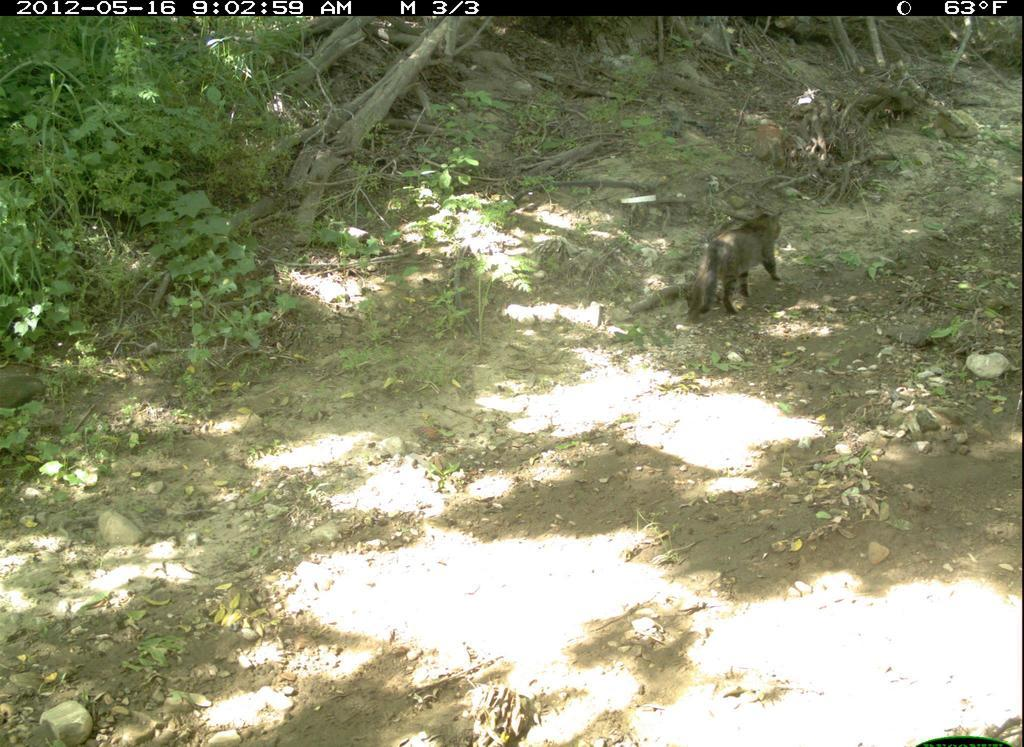cat: (675, 198, 789, 323)
